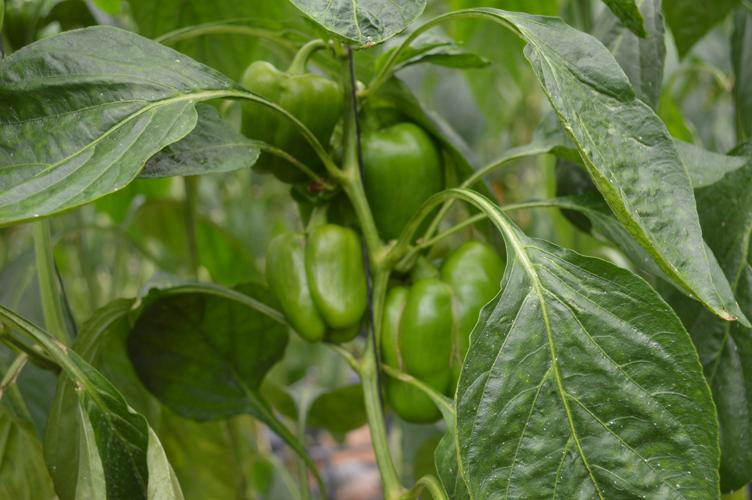BellPepper: (384, 239, 508, 420), (235, 66, 341, 182), (270, 226, 363, 343), (349, 123, 445, 236)
